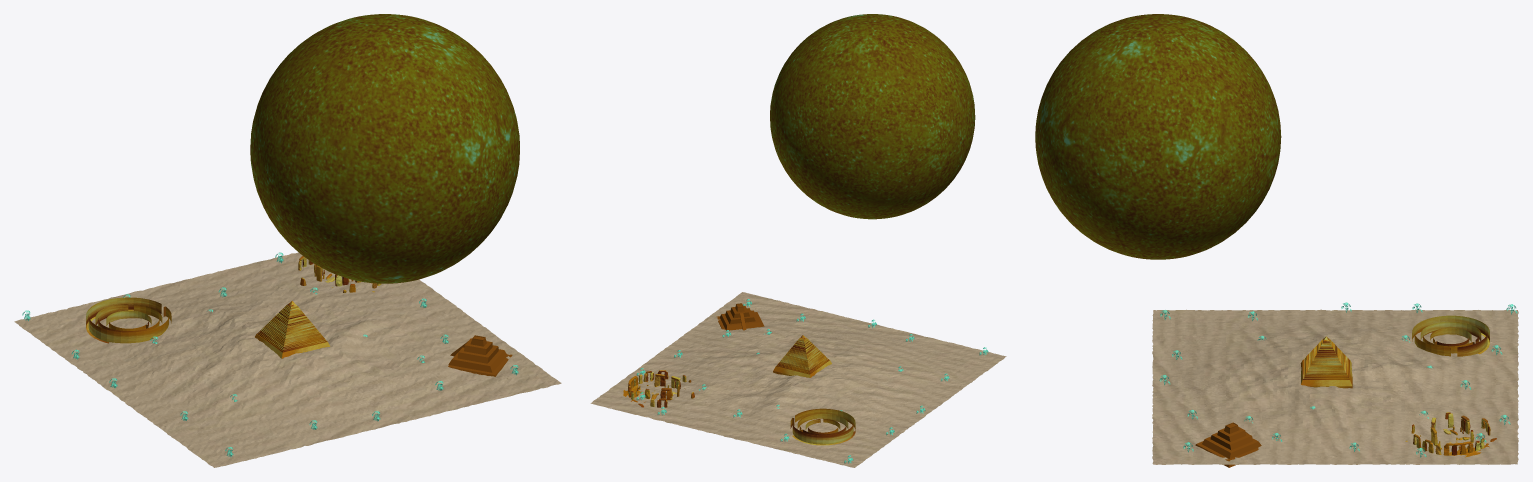
The model's file is DesertTest.gltf.
3 views of the same model, side by side, from view 1: azimuth 30°, elevation 25°; view 2: azimuth 150°, elevation 25°; view 3: azimuth 270°, elevation 25° (orthographic). The views are drawn at different scales.
Visible parts, largest first — view 1: Landscape, Sun Sun, Pyramid, Tube, Box_001, Tube.1, Stonehenge; view 2: Landscape, Sun Sun, Pyramid, Stonehenge, Tube, Box_001, Tube.1; view 3: Landscape, Sun Sun, Pyramid, Stonehenge, Box_001, Tube, Tube.1.
Part boxes in pixels (<box>): Landscape: <box>14,252,561,467</box>; Sun Sun: <box>250,14,519,283</box>; Pyramid: <box>255,301,330,358</box>; Tube: <box>86,297,171,343</box>; Box_001: <box>448,335,512,376</box>; Tube.1: <box>95,304,162,332</box>; Stonehenge: <box>298,256,381,292</box>; Landscape: <box>590,292,1006,467</box>; Sun Sun: <box>770,14,975,219</box>; Pyramid: <box>773,335,831,377</box>; Stonehenge: <box>623,370,694,407</box>; Tube: <box>790,408,855,445</box>; Box_001: <box>716,303,764,330</box>; Tube.1: <box>797,413,848,435</box>; Landscape: <box>1152,309,1518,464</box>; Sun Sun: <box>1035,14,1281,259</box>; Pyramid: <box>1300,336,1352,388</box>; Stonehenge: <box>1405,412,1496,457</box>; Box_001: <box>1195,422,1261,467</box>; Tube: <box>1412,315,1489,356</box>; Tube.1: <box>1420,321,1481,353</box>.
Size of the model in its own units: 3010 by 3423 by 3971.
4 materials, 3 textured.
